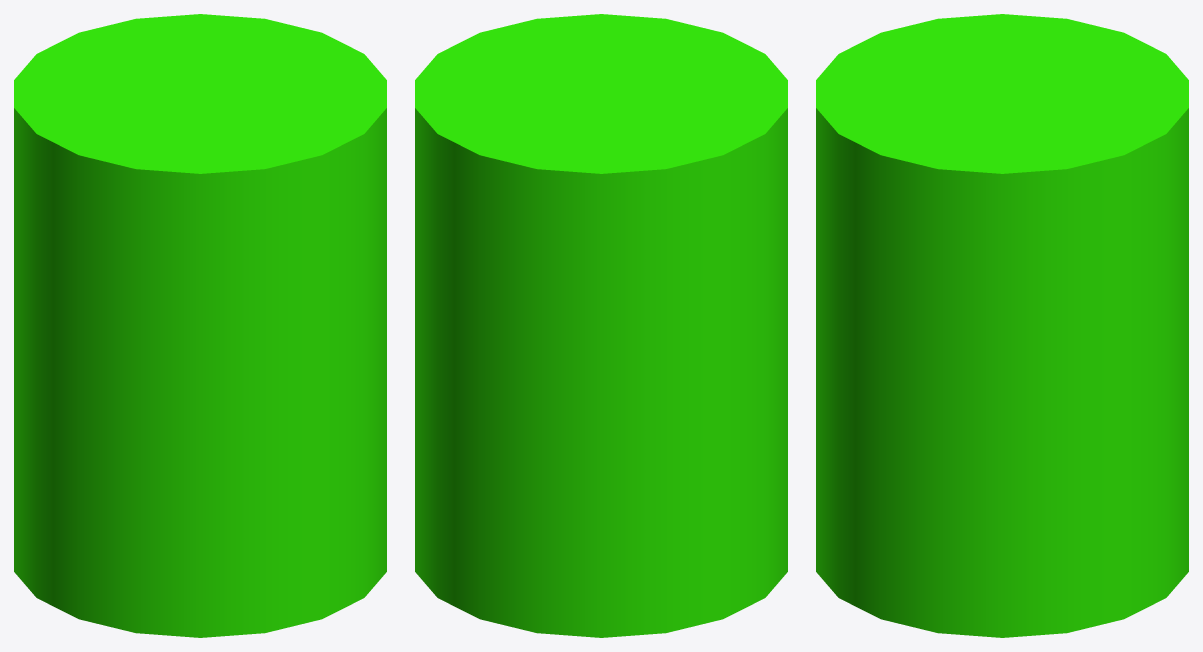
3 renders of one model, left to right at view 1: azimuth 30°, elevation 25°; view 2: azimuth 150°, elevation 25°; view 3: azimuth 270°, elevation 25°, orthographic.
Visible parts, largest first — view 1: Cylinder001; view 2: Cylinder001; view 3: Cylinder001.
Part boxes in pixels (left/top/right/bottom): Cylinder001: left=14, top=14, right=386, bottom=637; Cylinder001: left=415, top=14, right=787, bottom=637; Cylinder001: left=816, top=14, right=1188, bottom=637.
Bounding box in the file's own units: 2.05 × 2.77 × 2.02.
